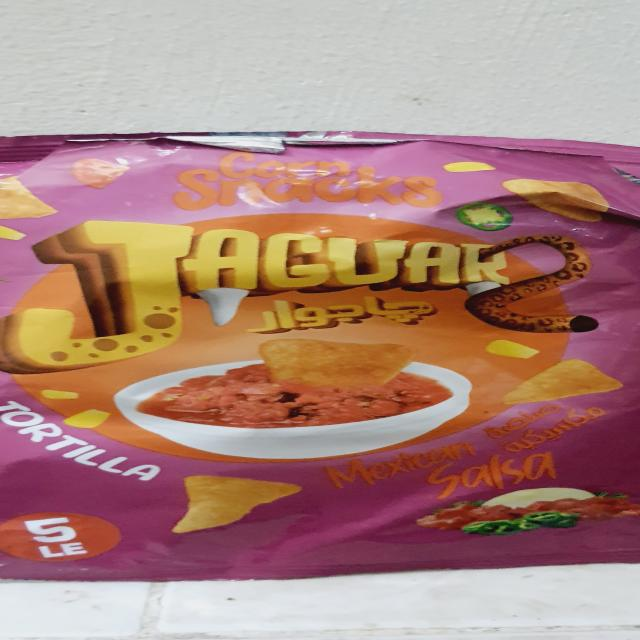plastic: (0, 121, 640, 570)
